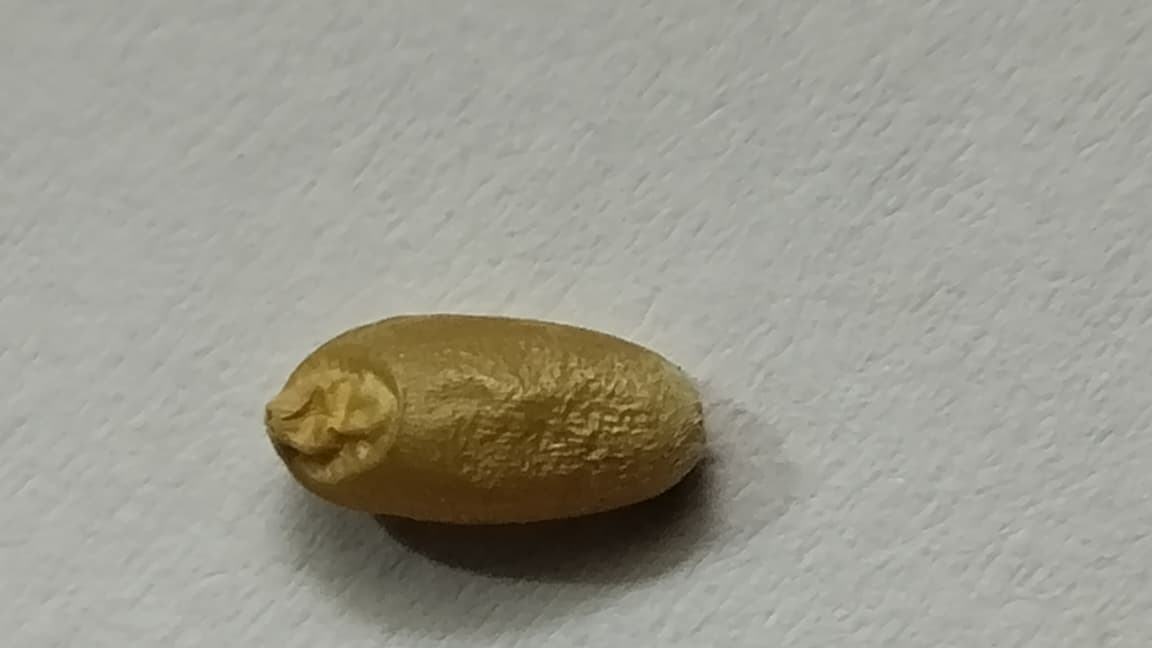healthy: (268, 316, 703, 521)
